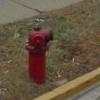Hydrant: (19, 15, 61, 91)
